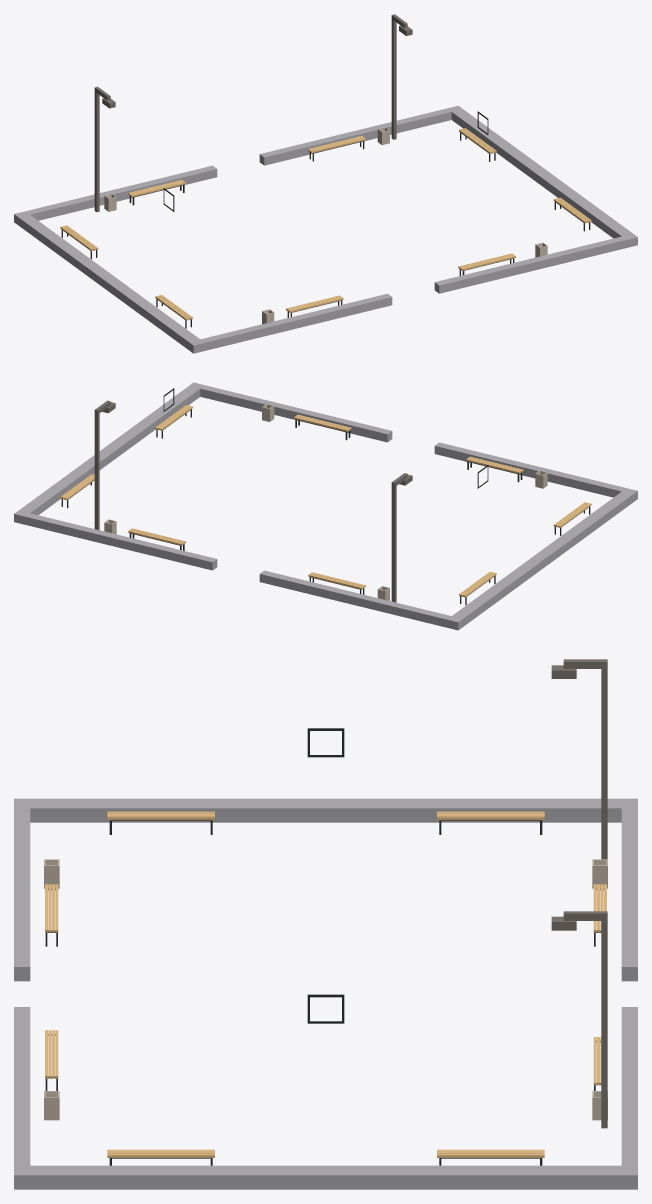
Rendered from street-court.glb.
3 views of the same model, one above another, from view 1: azimuth 30°, elevation 25°; view 2: azimuth 150°, elevation 25°; view 3: azimuth 270°, elevation 25° (orthographic). The views are drawn at different scales.
Parts seen in each view (by area): view 1: Base_1, Benches_4, Light Pillars_3, Dust_Bin_5; view 2: Base_1, Benches_4, Light Pillars_3, Dust_Bin_5; view 3: Base_1, Benches_4, Light Pillars_3, Dust_Bin_5, Basketball_Stand_6.
Boxes of the visible parts, bbox=[...] form: Base_1: bbox=[14, 105, 637, 353]; Benches_4: bbox=[60, 128, 591, 328]; Light Pillars_3: bbox=[94, 14, 412, 212]; Dust_Bin_5: bbox=[104, 127, 547, 324]; Base_1: bbox=[14, 382, 637, 630]; Benches_4: bbox=[60, 405, 591, 605]; Light Pillars_3: bbox=[94, 400, 412, 602]; Dust_Bin_5: bbox=[104, 404, 547, 600]; Base_1: bbox=[14, 798, 637, 1189]; Benches_4: bbox=[45, 811, 606, 1165]; Light Pillars_3: bbox=[551, 659, 607, 1128]; Dust_Bin_5: bbox=[44, 859, 607, 1120]; Basketball_Stand_6: bbox=[307, 728, 344, 1023].
Size of the model in its own units: 5.69 by 1.51 by 3.98.
